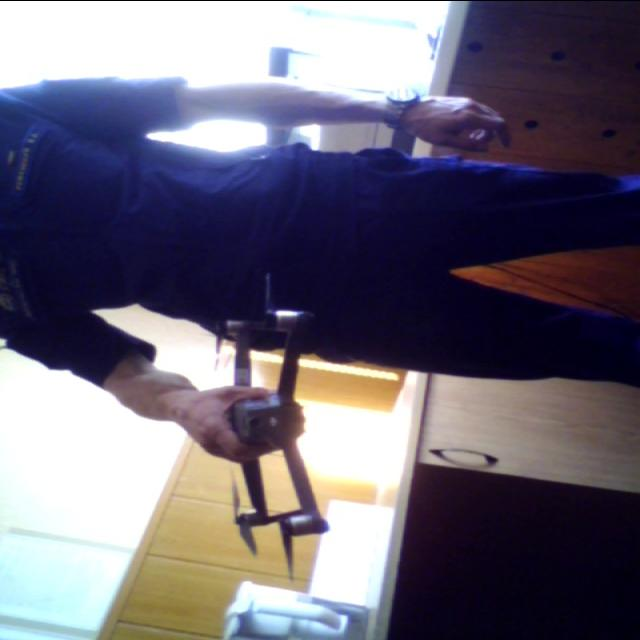drone: (196, 264, 340, 576)
